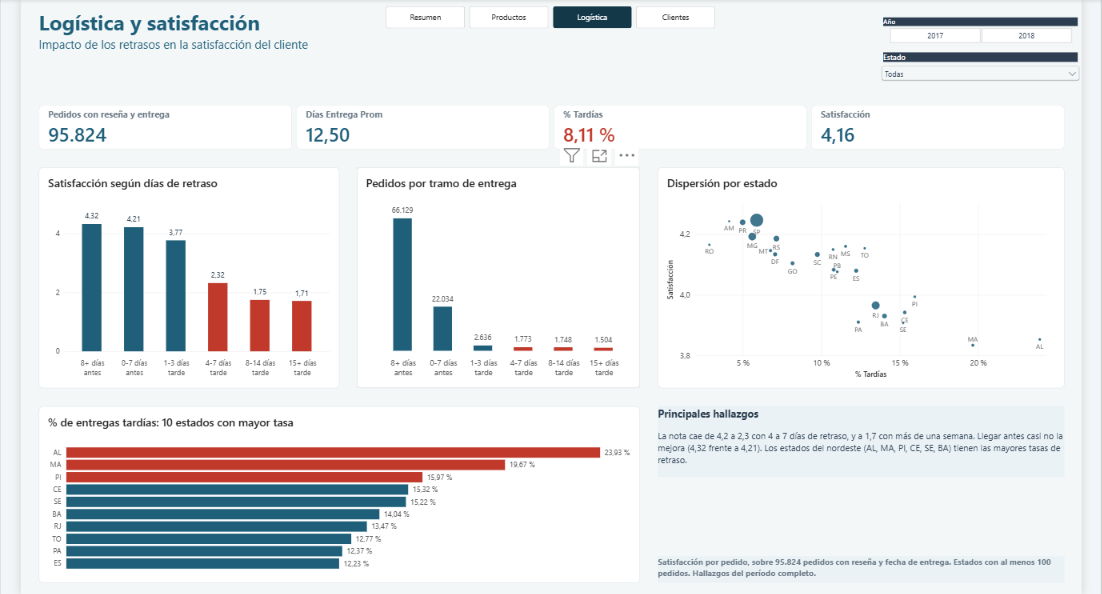

This screenshot's page, from the dashboard's own definition file:
{"tool":"powerbi","page":{"name":"Logística ","canvas":[1920,1080],"ordinal":2},"visuals":[{"type":"cardVisual","fields":{"Data":["retraso_pedidos.Pedidos Retraso","v_pedidos.Días Entrega Prom","v_pedidos.% Tardías","v_pedidos.Satisfacción"]},"box":[32,192,1856,80],"z":0},{"type":"clusteredColumnChart","title":"Satisfacción según días de retraso","fields":{"Category":["retraso_pedidos.grupo"],"Y":["v_pedidos.Satisfacción"]},"box":[32,304,544,400],"z":1000},{"type":"clusteredColumnChart","title":"Pedidos por tramo de entrega","fields":{"Category":["retraso_pedidos.grupo"],"Y":["retraso_pedidos.Pedidos Retraso"]},"box":[608,304,512,400],"z":2000},{"type":"scatterChart","title":"Dispersión por estado","fields":{"Category":["v_pedidos.estado"],"Size":["v_pedidos.Total Pedidos"],"X":["v_pedidos.% Tardías"],"Y":["v_pedidos.Satisfacción"]},"box":[1152,304,736,400],"z":3000},{"type":"clusteredBarChart","title":"% de entregas tardías: 10 estados con mayor tasa","fields":{"Category":["v_pedidos.estado"],"Y":["v_pedidos.% Tardías"]},"box":[32,736,1088,320],"z":4000},{"type":"slicer","fields":{"Values":["Calendario.Año"]},"box":[1552,32,368,48],"z":5000},{"type":"slicer","fields":{"Values":["v_pedidos.estado"]},"box":[1552,96,368,80],"z":6000},{"type":"pageNavigator","box":[660,12,596,40],"z":7000},{"type":"textbox","box":[32,16,592,96],"z":8000},{"type":"textbox","box":[1152,736,736,128],"z":9000},{"type":"textbox","box":[1152,1008,736,48],"z":10000}]}

Visuals, with their boxes on the page's 1920x1080 design canvas (x1, y1, x2, y2). These are canvas units, not pixel positions in the 1102x594 screenshot, which may show the page scaled, cropped or inside an application window:
cardVisual - retraso_pedidos.Pedidos Retraso x v_pedidos.Días Entrega Prom: (32, 192, 1888, 272)
"Satisfacción según días de retraso" clusteredColumnChart: (32, 304, 576, 704)
"Pedidos por tramo de entrega" clusteredColumnChart: (608, 304, 1120, 704)
"Dispersión por estado" scatterChart: (1152, 304, 1888, 704)
"% de entregas tardías: 10 estados con mayor tasa" clusteredBarChart: (32, 736, 1120, 1056)
slicer - Calendario.Año: (1552, 32, 1920, 80)
slicer - v_pedidos.estado: (1552, 96, 1920, 176)
pageNavigator: (660, 12, 1256, 52)
textbox: (32, 16, 624, 112)
textbox: (1152, 736, 1888, 864)
textbox: (1152, 1008, 1888, 1056)
